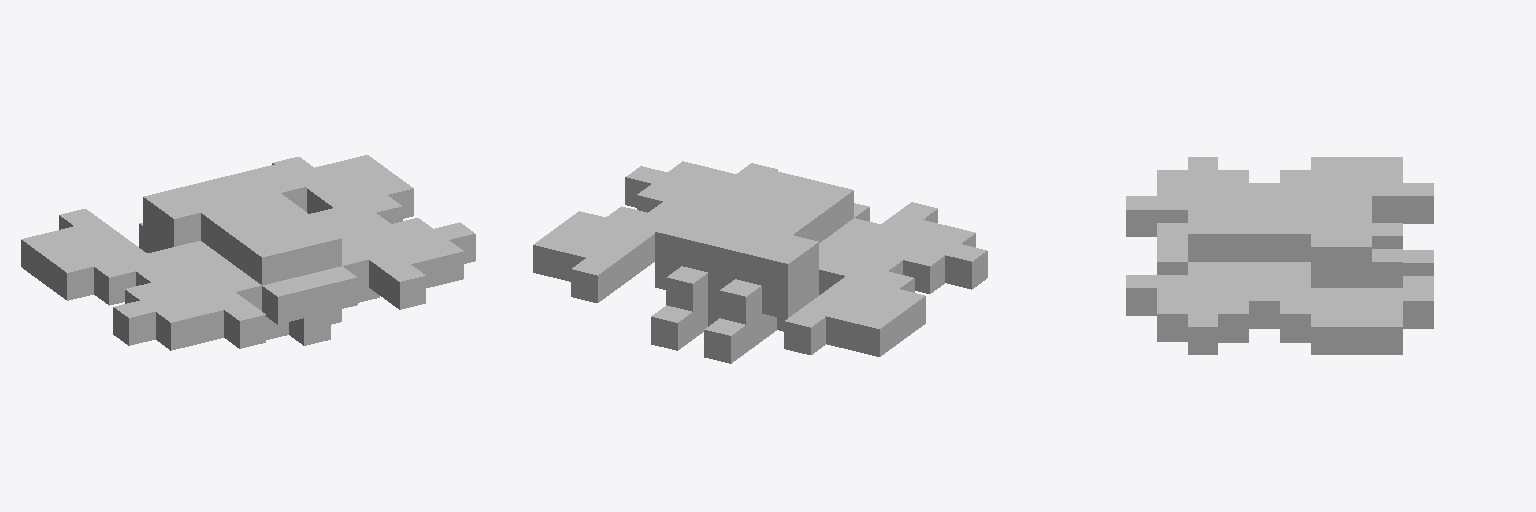
Rendered from enemy01.obj.
3 views of the same model, side by side, from view 1: azimuth 30°, elevation 25°; view 2: azimuth 150°, elevation 25°; view 3: azimuth 270°, elevation 25° (orthographic).
Parts seen in each view (by area): view 1: group_43_ID391, group_35_ID319, group_54_ID490, group_59_ID535, group_121_ID1101, group_34_ID310, group_94_ID858, group_71_ID651, group_32_ID292, group_70_ID642, group_63_ID571, group_117_ID1065 (+19 smaller); view 2: group_43_ID391, group_53_ID481, group_102_ID930, group_76_ID696, group_100_ID912, group_110_ID1002, group_9_ID85, group_38_ID346, group_78_ID714, group_61_ID553, group_1_ID5, group_49_ID445 (+18 smaller); view 3: group_1_ID5, group_4_ID40, group_6_ID58, group_9_ID85, group_17_ID157, group_24_ID220, group_27_ID247, group_34_ID310, group_53_ID481, group_59_ID535, group_101_ID921, group_113_ID1029 (+12 smaller).
Boxes of the visible parts, x1=… form: group_43_ID391: x1=113, y1=301, x2=155, y2=345; group_35_ID319: x1=52, y1=255, x2=93, y2=300; group_54_ID490: x1=156, y1=305, x2=197, y2=350; group_59_ID535: x1=224, y1=303, x2=265, y2=348; group_121_ID1101: x1=247, y1=240, x2=288, y2=285; group_34_ID310: x1=384, y1=264, x2=425, y2=309; group_94_ID858: x1=159, y1=202, x2=200, y2=246; group_71_ID651: x1=262, y1=279, x2=303, y2=324; group_32_ID292: x1=94, y1=260, x2=135, y2=305; group_70_ID642: x1=316, y1=266, x2=357, y2=311; group_63_ID571: x1=289, y1=273, x2=330, y2=317; group_117_ID1065: x1=274, y1=234, x2=315, y2=278; group_43_ID391: x1=945, y1=244, x2=987, y2=289; group_53_ID481: x1=784, y1=310, x2=825, y2=354; group_102_ID930: x1=651, y1=305, x2=692, y2=350; group_76_ID696: x1=666, y1=266, x2=707, y2=311; group_100_ID912: x1=762, y1=247, x2=803, y2=291; group_110_ID1002: x1=704, y1=318, x2=745, y2=363; group_9_ID85: x1=571, y1=258, x2=612, y2=302; group_38_ID346: x1=853, y1=312, x2=894, y2=356; group_78_ID714: x1=720, y1=279, x2=761, y2=324; group_61_ID553: x1=903, y1=249, x2=944, y2=293; group_1_ID5: x1=533, y1=234, x2=574, y2=278; group_49_ID445: x1=826, y1=305, x2=867, y2=350; group_1_ID5: x1=1372, y1=314, x2=1402, y2=354; group_4_ID40: x1=1311, y1=314, x2=1341, y2=354; group_6_ID58: x1=1280, y1=301, x2=1310, y2=341; group_9_ID85: x1=1403, y1=288, x2=1433, y2=328; group_17_ID157: x1=1157, y1=301, x2=1187, y2=341; group_24_ID220: x1=1249, y1=288, x2=1279, y2=328; group_27_ID247: x1=1218, y1=301, x2=1248, y2=341; group_34_ID310: x1=1126, y1=275, x2=1156, y2=315; group_53_ID481: x1=1403, y1=183, x2=1433, y2=223; group_59_ID535: x1=1126, y1=196, x2=1156, y2=236; group_101_ID921: x1=1311, y1=234, x2=1341, y2=274; group_113_ID1029: x1=1280, y1=221, x2=1310, y2=261.
Size of the model in its own units: 16.96 by 3.91 by 13.04.